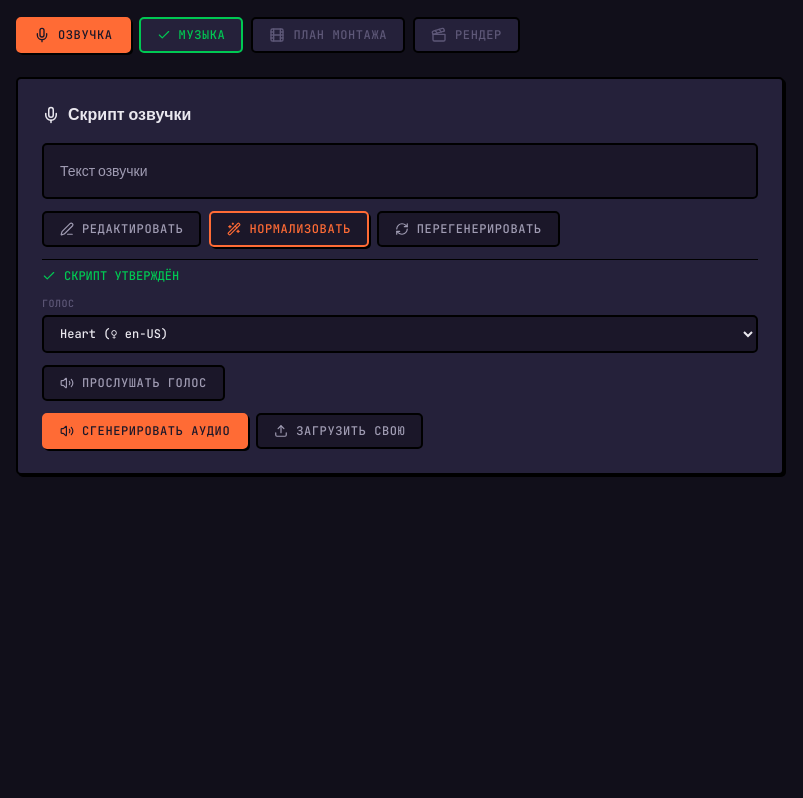
MontageView semantic planning panel › shows visual-first assembly summary after drafting
This screenshot has width=803, height=798.
Click the button "План монтажа" at point(328, 35), box [251,17,405,53]
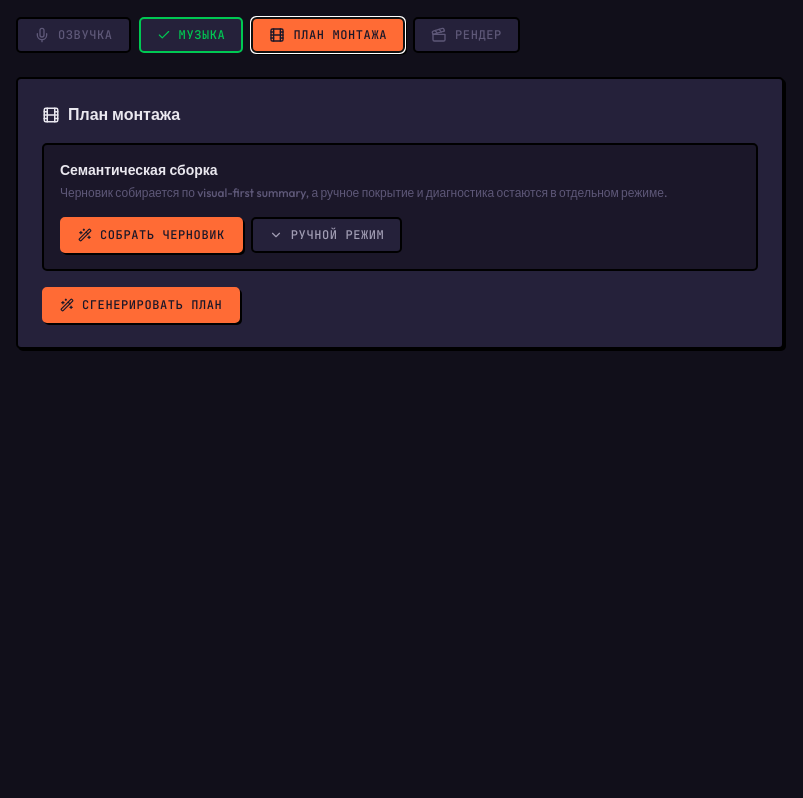
Click the button "Собрать черновик" at point(151, 235), box [60,217,243,253]
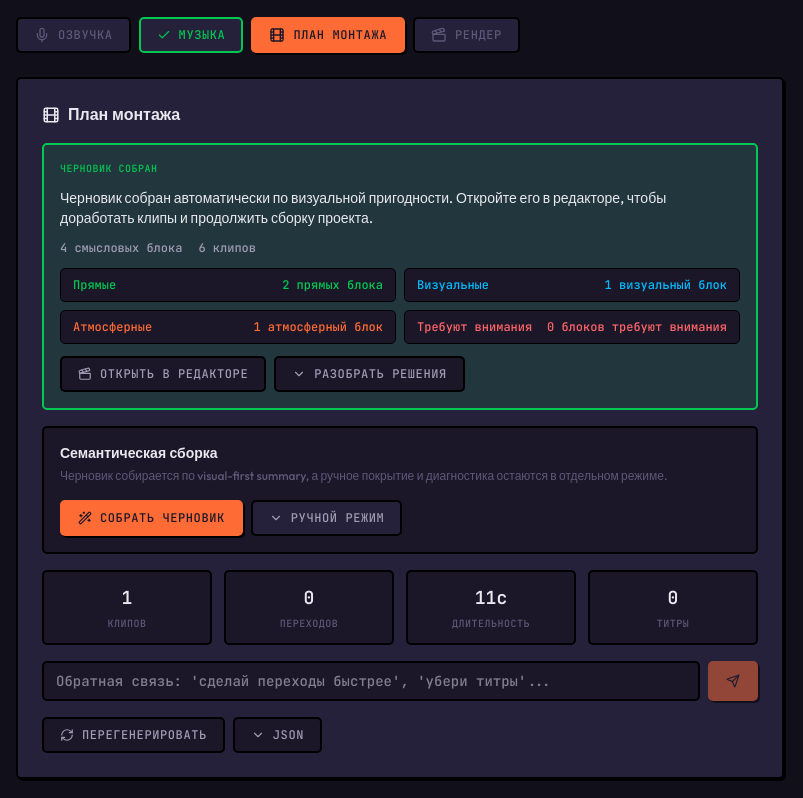
Expected: the text "Черновик собран" is shown, [60,162,158,175]
Expected: the text "Черновик собран автоматически по визуальной пригодности. Откройте его в редакторе, чтобы доработать клипы и продолжить с" is shown, [60,189,666,227]
Expected: the button "Открыть в редакторе" is shown, [60,356,266,392]
